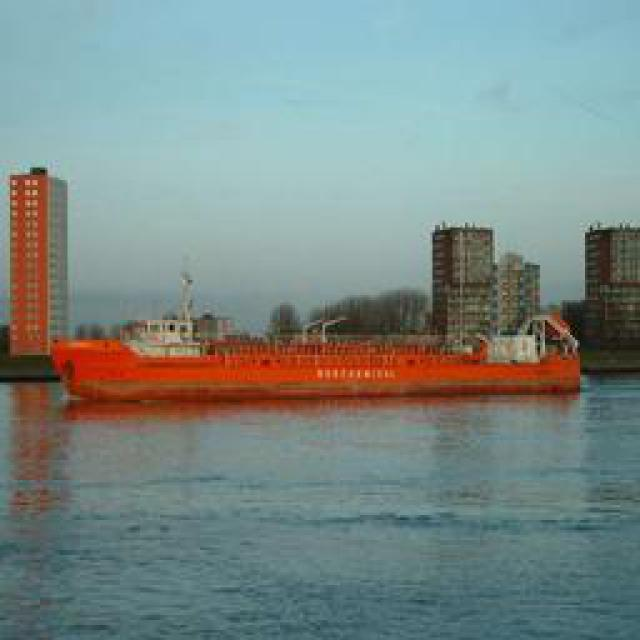Ship: (66, 318, 579, 406)
